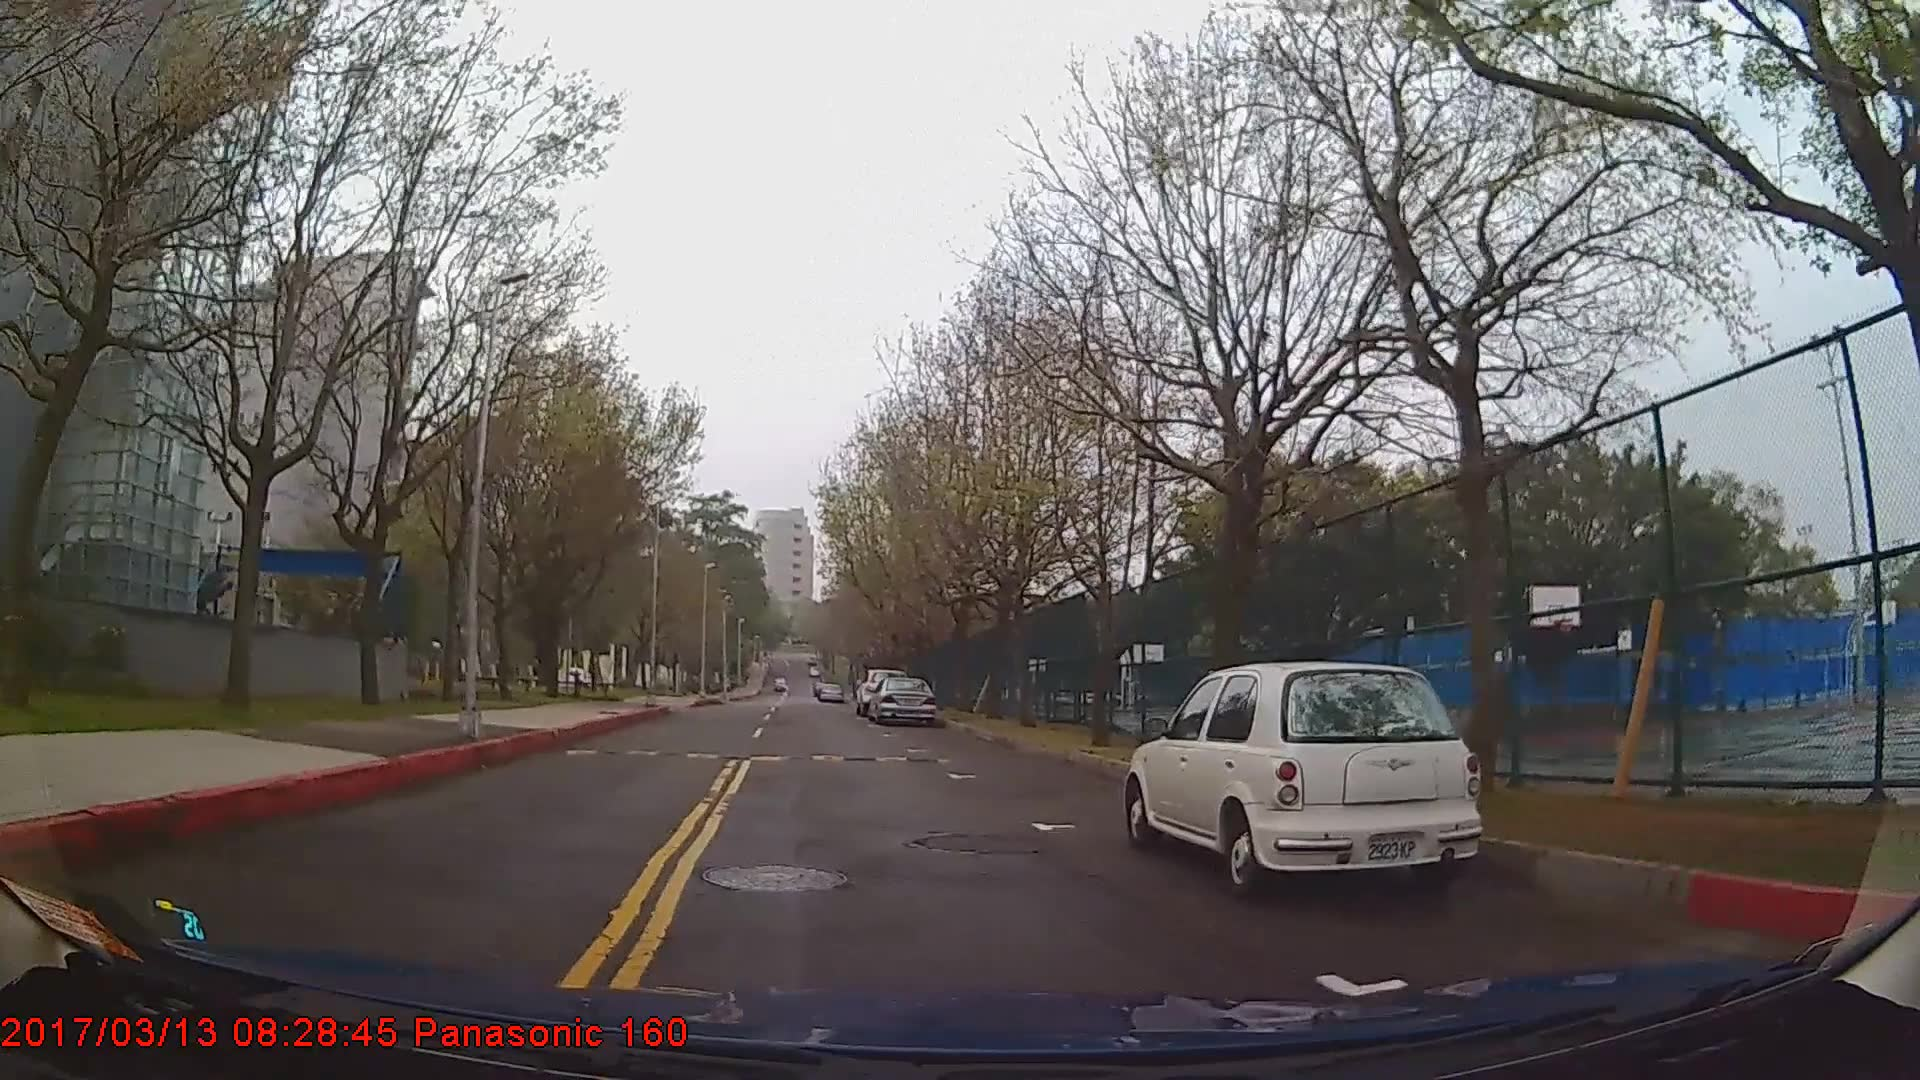vehicle: (1121, 658, 1487, 905), (866, 674, 938, 724)
